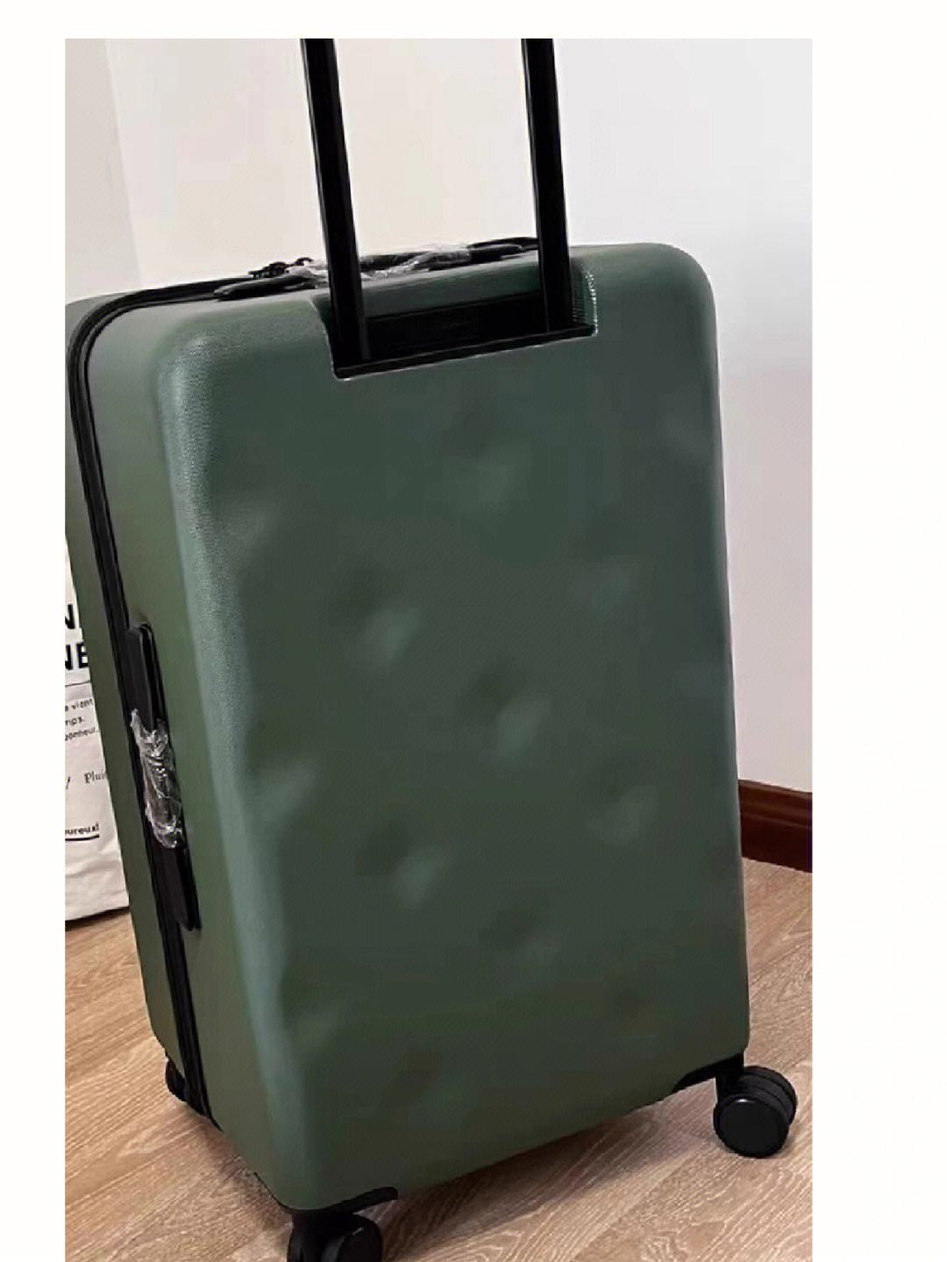box: (66, 243, 749, 1215)
handle: (125, 623, 203, 933), (213, 235, 538, 302)
wheel: (714, 1065, 797, 1159), (286, 1217, 382, 1262)
